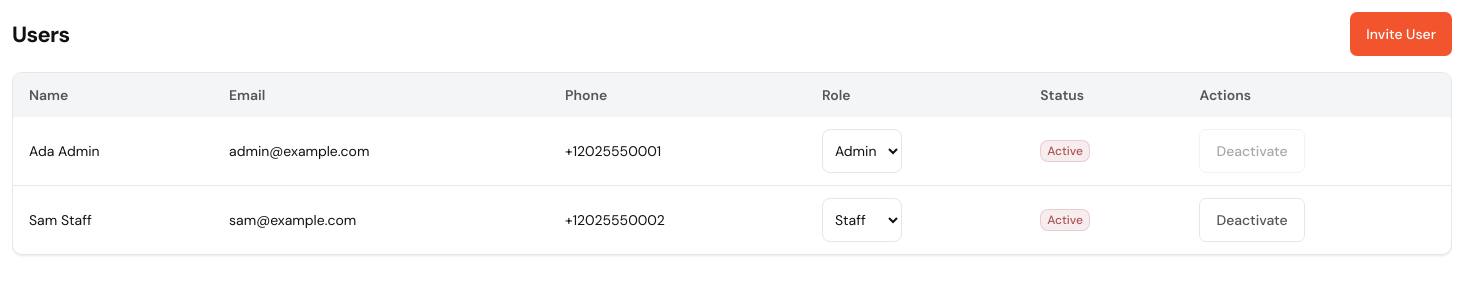
Users — admin › shows the 409 detail inline when the last active admin is protected
What coordinates should you click on to do the following:
click the button "Deactivate" in the row of "Sam Staff"
I would click on:
 (1252, 220)
Its box is [1200,198,1305,242].
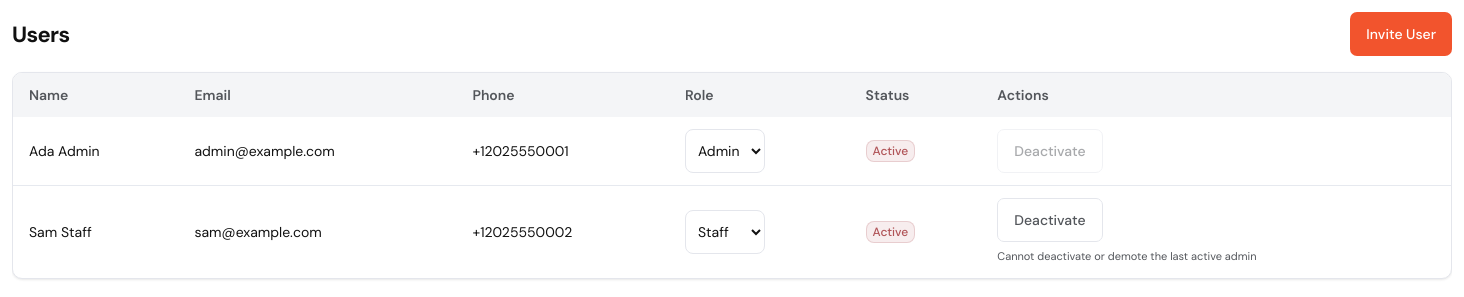
Result: the text "Cannot deactivate or demote the last active admin" is shown at [997,249,1256,263]
